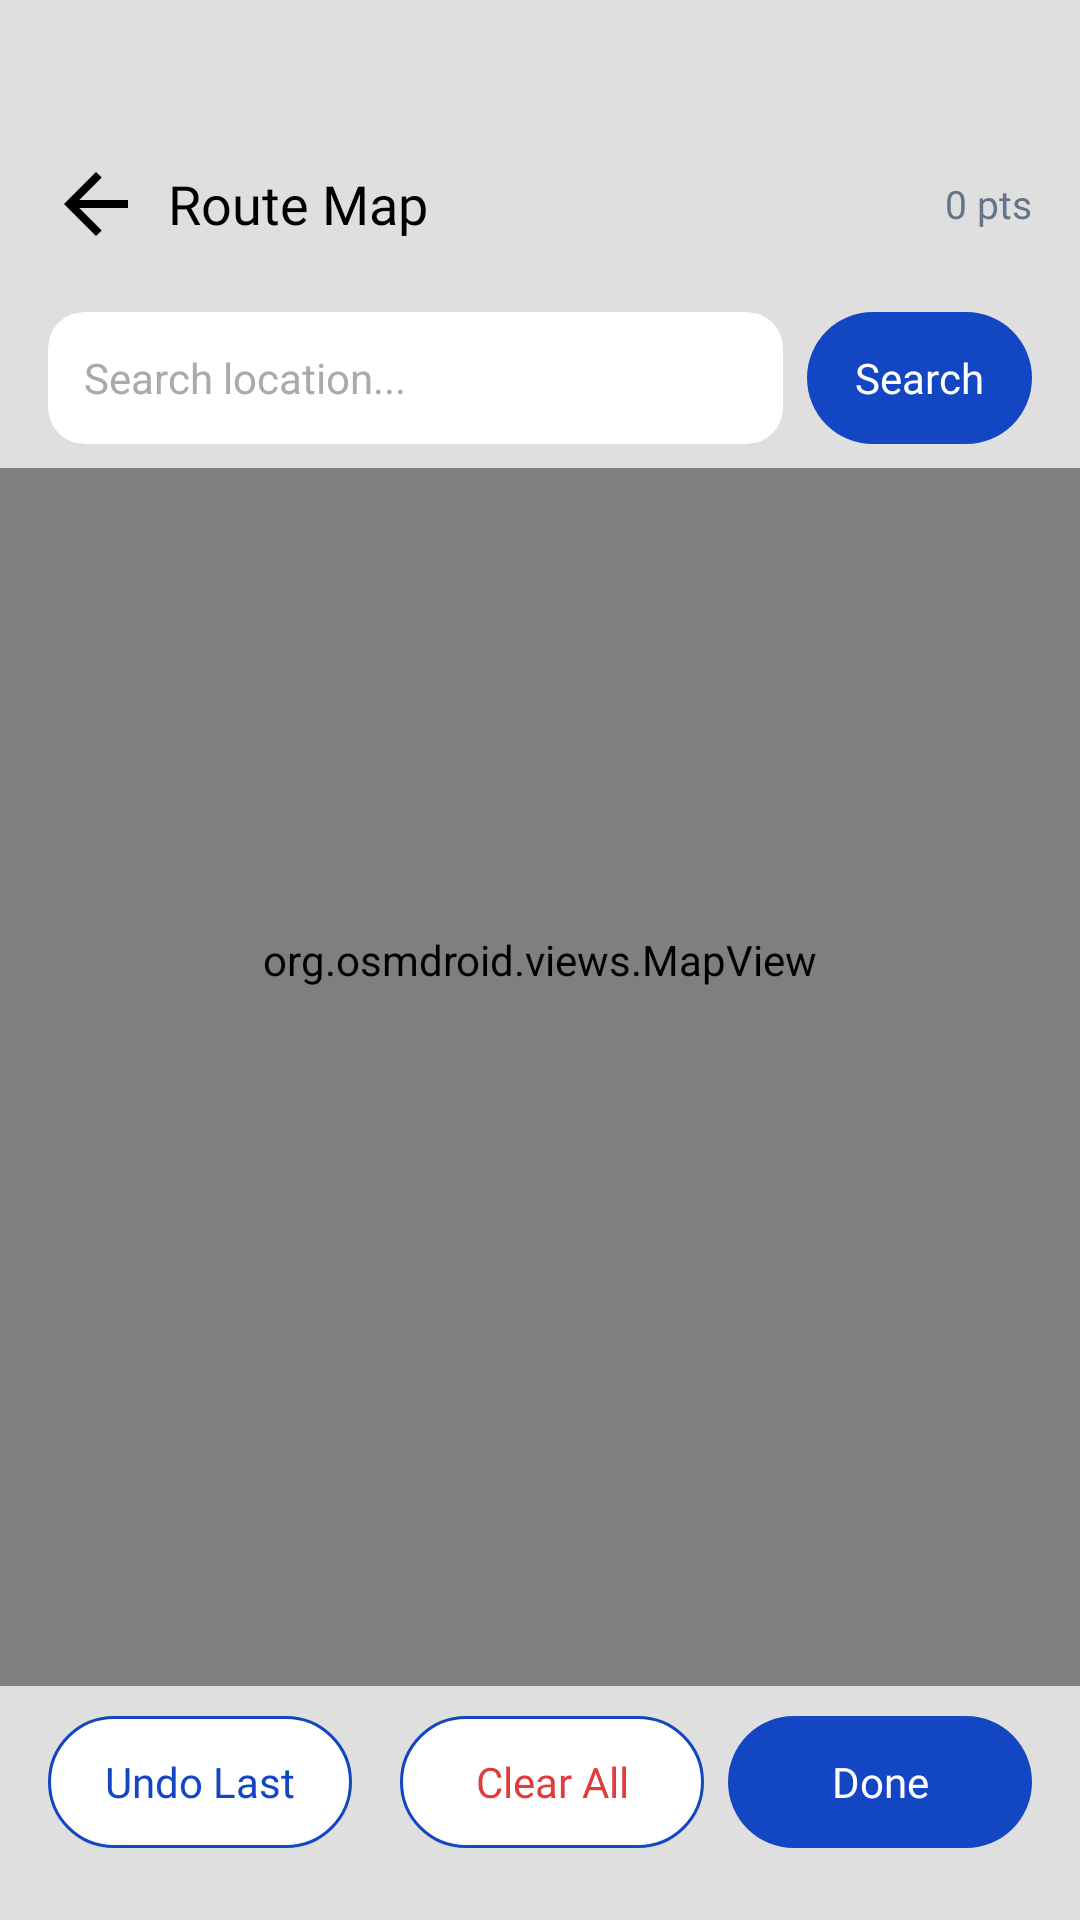

Where icons sit on this 1080 × 1920 app screen, as (left=x1, top=y1, right=x2, bottom=y2):
arrow back: (left=64, top=172, right=128, bottom=236)
